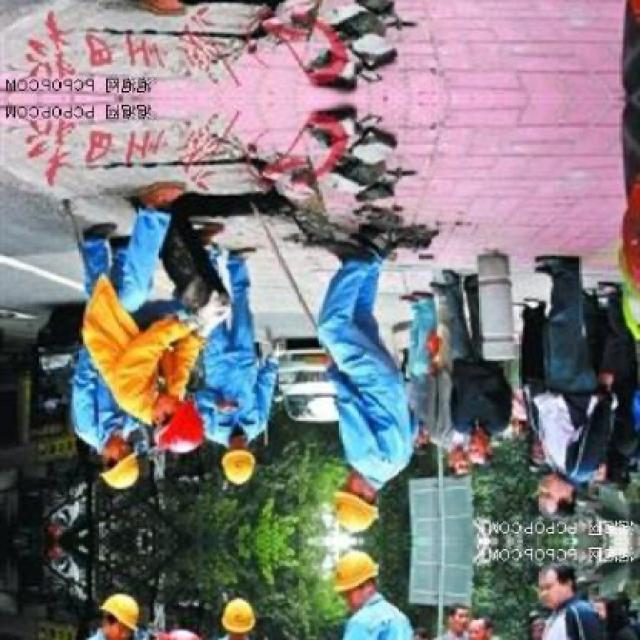con casco: (105, 352, 192, 468), (303, 469, 391, 533), (195, 436, 278, 485)
